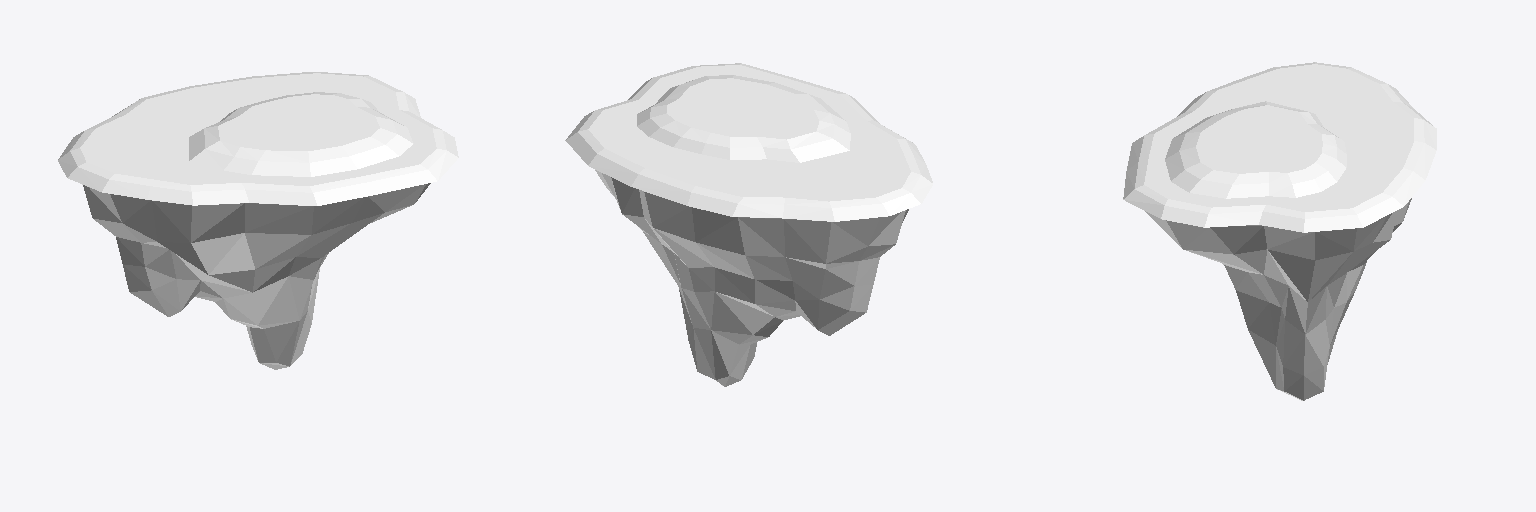
The model's file is island_02.obj.
The picture shows the model from 3 angles: view 1: azimuth 30°, elevation 25°; view 2: azimuth 150°, elevation 25°; view 3: azimuth 270°, elevation 25°; orthographic projection.
Parts seen in each view (by area): view 1: grp1; view 2: grp1; view 3: grp1.
Part boxes in pixels (x1,y1,x2,y2): grp1: (58,72,458,369); grp1: (565,63,932,386); grp1: (1123,62,1436,400).
Bounding box in the file's own units: 295 × 214 × 234.